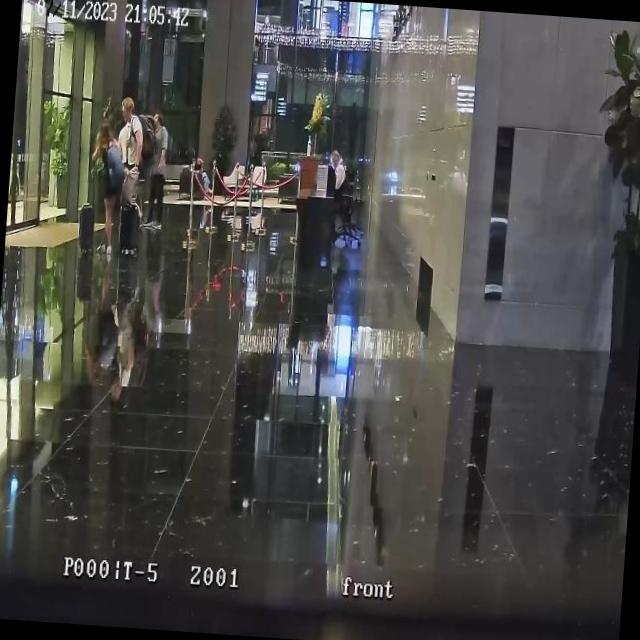person: (84, 119, 128, 258), (112, 96, 147, 226), (143, 110, 171, 230), (324, 147, 354, 210), (188, 154, 215, 201)
